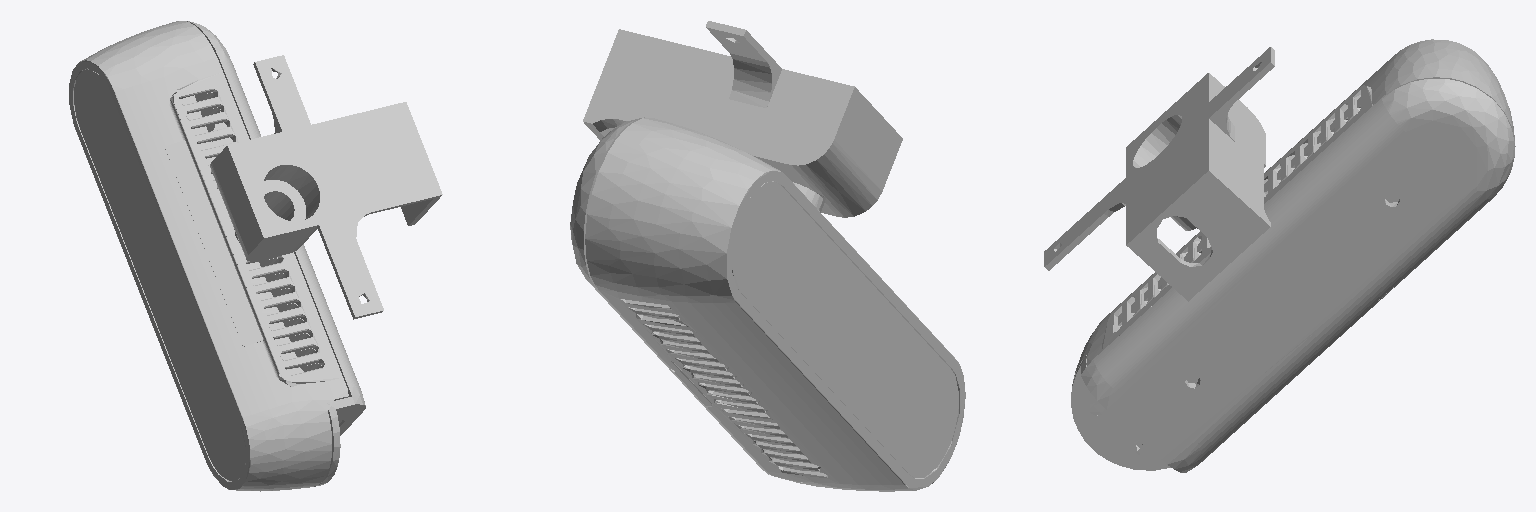
robot.urdf — panda:
<?xml version="1.0" ?>

<robot name="panda" xmlns:xacro="http://www.ros.org/wiki/xacro">
  
  <link name="panda_link0">
    <visual>
      <geometry>
        <mesh filename="meshes/collision/link0.obj"/>
      </geometry>
      <material name="panda_white">
        <color rgba="1. 1. 1. 1."/>
      </material>
    </visual>
    <collision>
      <geometry>
        <mesh filename="meshes/collision/link0.obj"/>
      </geometry>
      <material name="panda_white"/>
    </collision>
    <inertial>
      <origin xyz="0 0 0" rpy="0 0 0"/>
      <mass value="3.06"/>
      <inertia ixx="0.3" ixy="0.0" ixz="0.0" iyy="0.3" iyz="0.0" izz="0.3"/>
    </inertial>
  </link>
  
  <link name="panda_link1">
    <visual>
      <geometry>
        <mesh filename="meshes/visual/link1.obj"/>
      </geometry>
      <material name="panda_white"/>
    </visual>
    <collision>
      <geometry>
        <mesh filename="meshes/collision/link1.obj"/>
      </geometry>
      <material name="panda_white"/>
    </collision>
    <inertial>
      <origin xyz="0 0 0" rpy="0 0 0"/>
      <mass value="2.34"/>
      <inertia ixx="0.3" ixy="0.0" ixz="0.0" iyy="0.3" iyz="0.0" izz="0.3"/>
    </inertial>
  </link>
  
  <joint name="panda_joint1" type="revolute">
    <safety_controller k_position="100.0" k_velocity="40.0" soft_lower_limit="-2.8973" soft_upper_limit="2.8973"/>
    <origin rpy="0 0 0" xyz="0 0 0.333"/>
    <parent link="panda_link0"/>
    <child link="panda_link1"/>
    <axis xyz="0 0 1"/>
    <limit effort="87" lower="-2.8973" upper="2.8973" velocity="2.1750"/>
    <dynamics damping="0.5"/>
  </joint>
  
  <link name="panda_link2">
    <visual>
      <geometry>
        <mesh filename="meshes/visual/link2.obj"/>
      </geometry>
      <material name="panda_white"/>
    </visual>
    <collision>
      <geometry>
        <mesh filename="meshes/collision/link2.obj"/>
      </geometry>
      <material name="panda_white"/>
    </collision>
    <inertial>
      <origin xyz="0 0 0" rpy="0 0 0"/>
      <mass value="2.36"/>
      <inertia ixx="0.3" ixy="0.0" ixz="0.0" iyy="0.3" iyz="0.0" izz="0.3"/>
    </inertial>
  </link>
  
  <joint name="panda_joint2" type="revolute">
    <safety_controller k_position="100.0" k_velocity="40.0" soft_lower_limit="-1.7628" soft_upper_limit="1.7628"/>
    <origin rpy="-1.57079632679 0 0" xyz="0 0 0"/>
    <parent link="panda_link1"/>
    <child link="panda_link2"/>
    <axis xyz="0 0 1"/>
    <limit effort="87" lower="-1.7628" upper="1.7628" velocity="2.1750"/>
    <dynamics damping="0.5"/>
  </joint>
  
  <link name="panda_link3">
    <visual>
      <geometry>
        <mesh filename="meshes/visual/link3.obj"/>
      </geometry>
      <material name="panda_red">
        <color rgba="1. 1. 1. 1."/>
      </material>
    </visual>
    <collision>
      <geometry>
        <mesh filename="meshes/collision/link3.obj"/>
      </geometry>
    </collision>
    <inertial>
      <origin xyz="0 0 0" rpy="0 0 0"/>
      <mass value="2.38"/>
      <inertia ixx="0.3" ixy="0.0" ixz="0.0" iyy="0.3" iyz="0.0" izz="0.3"/>
    </inertial>
  </link>
  
  <joint name="panda_joint3" type="revolute">
    <safety_controller k_position="100.0" k_velocity="40.0" soft_lower_limit="-2.8973" soft_upper_limit="2.8973"/>
    <origin rpy="1.57079632679 0 0" xyz="0 -0.316 0"/>
    <parent link="panda_link2"/>
    <child link="panda_link3"/>
    <axis xyz="0 0 1"/>
    <limit effort="87" lower="-2.8973" upper="2.8973" velocity="2.1750"/>
    <dynamics damping="0.5"/>
  </joint>
  
  <link name="panda_link4">
    <visual>
      <geometry>
        <mesh filename="meshes/visual/link4.obj"/>
      </geometry>
      <material name="panda_white"/>
    </visual>
    <collision>
      <geometry>
        <mesh filename="meshes/collision/link4.obj"/>
      </geometry>
      <material name="panda_white"/>
    </collision>
    <inertial>
      <origin xyz="0 0 0" rpy="0 0 0"/>
      <mass value="2.43"/>
      <inertia ixx="0.3" ixy="0.0" ixz="0.0" iyy="0.3" iyz="0.0" izz="0.3"/>
    </inertial>
  </link>
  
  <joint name="panda_joint4" type="revolute">
    <safety_controller k_position="100.0" k_velocity="40.0" soft_lower_limit="-3.0718" soft_upper_limit="-0.0698"/>
    <origin rpy="1.57079632679 0 0" xyz="0.0825 0 0"/>
    <parent link="panda_link3"/>
    <child link="panda_link4"/>
    <axis xyz="0 0 1"/>
    <limit effort="87" lower="-3.0718" upper="-0.0698" velocity="2.1750"/>
    <dynamics damping="0.5"/>
  </joint>
  
  <link name="panda_link5">
    <visual>
      <geometry>
        <mesh filename="meshes/visual/link5.obj"/>
      </geometry>
      <material name="panda_white"/>
    </visual>
    <collision>
      <geometry>
        <mesh filename="meshes/collision/link5.obj"/>
      </geometry>
      <material name="panda_white"/>
    </collision>
    <inertial>
      <origin xyz="0 0 0" rpy="0 0 0"/>
      <mass value="3.5"/>
      <inertia ixx="0.3" ixy="0.0" ixz="0.0" iyy="0.3" iyz="0.0" izz="0.3"/>
    </inertial>
  </link>
  
  <joint name="panda_joint5" type="revolute">
    <safety_controller k_position="100.0" k_velocity="40.0" soft_lower_limit="-2.8973" soft_upper_limit="2.8973"/>
    <origin rpy="-1.57079632679 0 0" xyz="-0.0825 0.384 0"/>
    <parent link="panda_link4"/>
    <child link="panda_link5"/>
    <axis xyz="0 0 1"/>
    <limit effort="12" lower="-2.8973" upper="2.8973" velocity="2.6100"/>
    <dynamics damping="0.5"/>
  </joint>
  
  <link name="panda_link6">
    <visual>
      <geometry>
        <mesh filename="meshes/visual/link6.obj"/>
      </geometry>
      <material name="panda_white"/>
    </visual>
    <collision>
      <geometry>
        <mesh filename="meshes/collision/link6.obj"/>
      </geometry>
      <material name="panda_white"/>
    </collision>
    <inertial>
      <origin xyz="0 0 0" rpy="0 0 0"/>
      <mass value="1.47"/>
      <inertia ixx="0.3" ixy="0.0" ixz="0.0" iyy="0.3" iyz="0.0" izz="0.3"/>
    </inertial>
  </link>
  
  <joint name="panda_joint6" type="revolute">
    <safety_controller k_position="100.0" k_velocity="40.0" soft_lower_limit="-0.0175" soft_upper_limit="3.7525"/>
    <origin rpy="1.57079632679 0 0" xyz="0 0 0"/>
    <parent link="panda_link5"/>
    <child link="panda_link6"/>
    <axis xyz="0 0 1"/>
    <limit effort="12" lower="-0.0175" upper="3.752" velocity="2.6100"/>
    <dynamics damping="0.5"/>
  </joint>
  
  <link name="panda_link7">
    <visual>
      <geometry>
        <mesh filename="meshes/collision/link7.obj"/>
      </geometry>
      <material name="panda_white"/>
    </visual>
    <collision>
      <geometry>
        <mesh filename="meshes/collision/link7.obj"/>
      </geometry>
      <material name="panda_white"/>
    </collision>
    <inertial>
      <origin xyz="0 0 0" rpy="0 0 0"/>
      <mass value="0.45"/>
      <inertia ixx="0.3" ixy="0.0" ixz="0.0" iyy="0.3" iyz="0.0" izz="0.3"/>
    </inertial>
  </link>
  
  <joint name="panda_joint7" type="revolute">
    <safety_controller k_position="100.0" k_velocity="40.0" soft_lower_limit="-2.8973" soft_upper_limit="2.8973"/>
    <origin rpy="1.57079632679 0 0" xyz="0.088 0 0"/>
    <parent link="panda_link6"/>
    <child link="panda_link7"/>
    <axis xyz="0 0 1"/>
    <limit effort="12" lower="-2.8973" upper="2.8973" velocity="2.6100"/>
    <dynamics damping="0.5"/>
  </joint>
  
  <joint name="panda_hand_joint" type="fixed">
    <parent link="panda_link7"/>
    <child link="panda_hand"/>
    <origin rpy="0 0 -0.785398163397" xyz="0 0 0.107"/>
  </joint>
  
  <link name="panda_hand">
    <visual>
      <geometry>
        <mesh filename="meshes/visual/hand.obj"/>
      </geometry>
      <material name="panda_white"/>
    </visual>
    <collision>
      <geometry>
        <mesh filename="meshes/collision/hand.obj"/>
      </geometry>
      <material name="panda_white"/>
    </collision>
    <inertial>
      <origin xyz="0 0 0" rpy="0 0 0"/>
      <mass value="0.68"/>
      <inertia ixx="0.1" ixy="0.0" ixz="0.0" iyy="0.1" iyz="0.0" izz="0.1"/>
    </inertial>
  </link>
  
  <link name="panda_leftfinger">
       <contact>
      <friction_anchor/>
      <stiffness value="30000.0"/>
      <damping value="1000.0"/>
      <spinning_friction value="0.1"/>
      <lateral_friction value="5.0"/>
    </contact>
    <visual>
      <geometry>
        <mesh filename="meshes/visual/finger.obj"/>
      </geometry>
      <material name="panda_white"/>
    </visual>
    <collision>
      <geometry>
        <mesh filename="meshes/collision/finger.obj"/>
      </geometry>
      <material name="panda_white"/>
    </collision>
    <inertial>
      <origin xyz="0 0 0" rpy="0 0 0"/>
      <mass value="0.01"/>
      <inertia ixx="0.1" ixy="0.0" ixz="0.0" iyy="0.1" iyz="0.0" izz="0.1"/>
    </inertial>
  </link>
  
  <link name="panda_rightfinger">
       <contact>
      <friction_anchor/>
      <stiffness value="30000.0"/>
      <damping value="1000.0"/>
      <spinning_friction value="0.1"/>
      <lateral_friction value="5.0"/>
    </contact>
    <visual>
      <origin rpy="0 0 3.14159265359" xyz="0 0 0"/>
      <geometry>
        <mesh filename="meshes/visual/finger.obj"/>
      </geometry>
      <material name="panda_white"/>
    </visual>
    <collision>
      <origin rpy="0 0 3.14159265359" xyz="0 0 0"/>
      <geometry>
        <mesh filename="meshes/collision/finger.obj"/>
      </geometry>
      <material name="panda_white"/>
    </collision>
    <inertial>
      <origin xyz="0 0 0" rpy="0 0 0"/>
      <mass value="0.01"/>
      <inertia ixx="0.1" ixy="0.0" ixz="0.0" iyy="0.1" iyz="0.0" izz="0.1"/>
    </inertial>
  </link>
  <link name="panda_hand_camera">
    <visual>
      <geometry>
        <mesh filename="meshes/visual/camera.DAE"/>
      </geometry>
      <material name="panda_gray"/>
    </visual>
    <collision>
      <geometry>
        <mesh filename="meshes/collision/camera.stl"/>
      </geometry>
      <material name="panda_gray"/>
    </collision>
    <inertial>
      <origin xyz="0 0 0" rpy="0 0 0"/>
      <mass value="0.01"/>
      <inertia ixx="0.1" ixy="0.0" ixz="0.0" iyy="0.1" iyz="0.0" izz="0.1"/>
    </inertial>
  </link>  
  <joint name="panda_finger_joint1" type="prismatic">
    <parent link="panda_hand"/>
    <child link="panda_leftfinger"/>
    <origin rpy="0 0 0" xyz="0 0 0.0584"/>
    <axis xyz="0 1 0"/>
    <limit effort="20" lower="0.0" upper="0.04" velocity="0.2"/>
  </joint>
  
  <joint name="panda_finger_joint2" type="prismatic">
    <parent link="panda_hand"/>
    <child link="panda_rightfinger"/>
    <origin rpy="0 0 0" xyz="0 0 0.0584"/>
    <axis xyz="0 -1 0"/>
    <limit effort="20" lower="0.0" upper="0.04" velocity="0.2"/>
    <mimic joint="panda_finger_joint1"/>
  </joint>
  <joint name="panda_hand_camera_joint" type="fixed">
    <parent link="panda_hand"/>
    <child link="panda_hand_camera"/>
    <origin rpy="-1.57079632679 0 -1.57079632679" xyz="0.036 0 0.036"/>
  </joint>  
  
  <material name="panda_white">
    <color rgba="1. 1. 1. 1."/>
  </material>
  <material name="panda_gray">
    <color rgba=".8 .8 .8 1."/>
  </material>
</robot>

--- Facts derived from the render (not from the file) ---
Views: 3 orthographic renders of the robot side by side, from view 1: azimuth 30°, elevation 25°; view 2: azimuth 150°, elevation 25°; view 3: azimuth 270°, elevation 25°.
Robot: panda — 12 links, 11 joints (7 revolute, 2 prismatic, 2 fixed); root link panda_link0; default pose: all joints at 0 but 1 set to mid-range because 0 is outside their limits (panda_joint4 = -1.57).
Visible links, largest first — view 1: panda_hand_camera; view 2: panda_hand_camera; view 3: panda_hand_camera.
Link boxes in pixels (bbox=[...]): panda_hand_camera: bbox=[69, 21, 442, 491]; panda_hand_camera: bbox=[570, 21, 965, 491]; panda_hand_camera: bbox=[1044, 39, 1515, 472].
Size in the robot's own frame: 0.0435 by 0.0751 by 0.075 metres.
Meshes: 11 distinct files referenced, 1 mesh visuals loaded (1 Collada DAE); not drawn: 11 (reference not matched to a file when rendering).